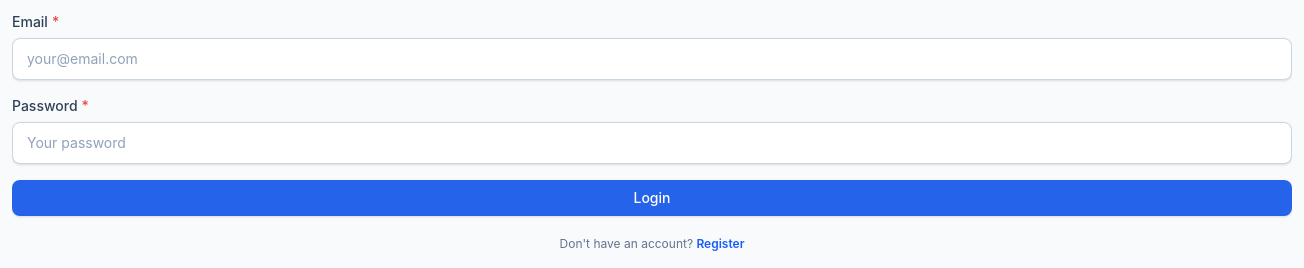
LoginForm › disables button while loading
Type "test@example.com" into the field labelled "Email*" at (652, 59), box [12, 38, 1292, 80]
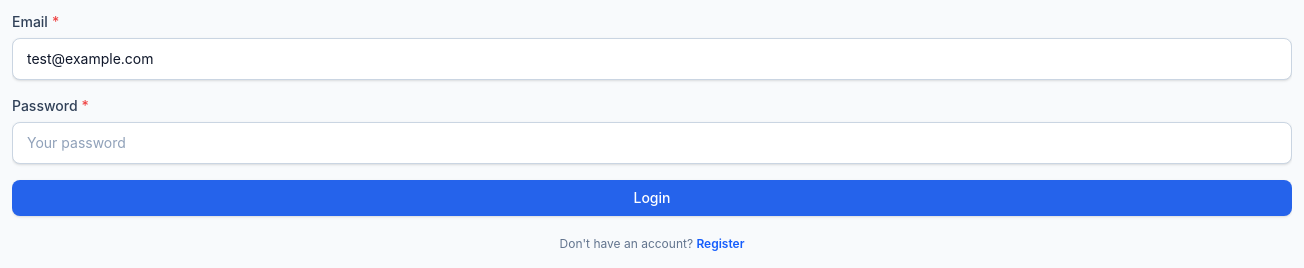
Type "password" into the password field labelled "Password*" at (652, 143), box [12, 122, 1292, 164]
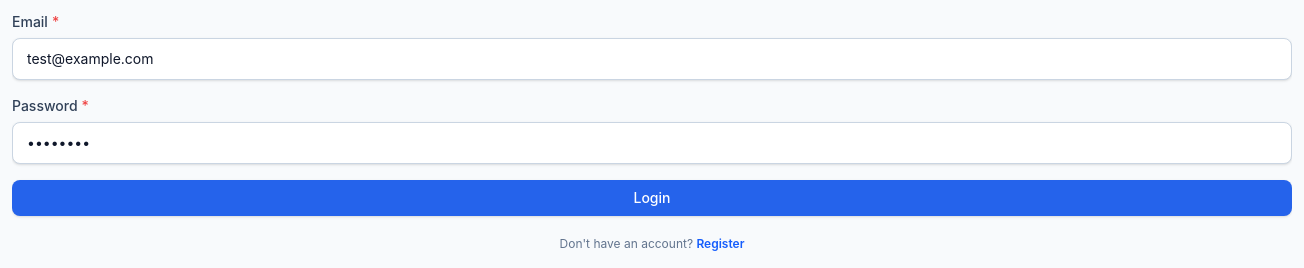
Click the button "Login" at (652, 198), box [12, 180, 1292, 216]
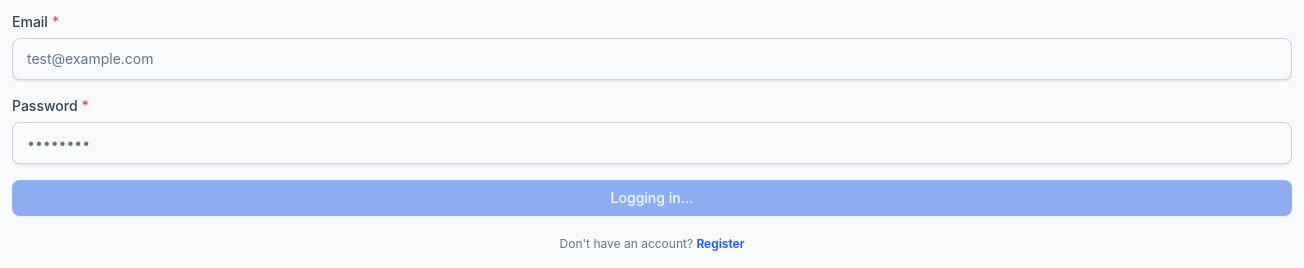
Expected: the button "Logging in..." is disabled, [12, 180, 1292, 216]
